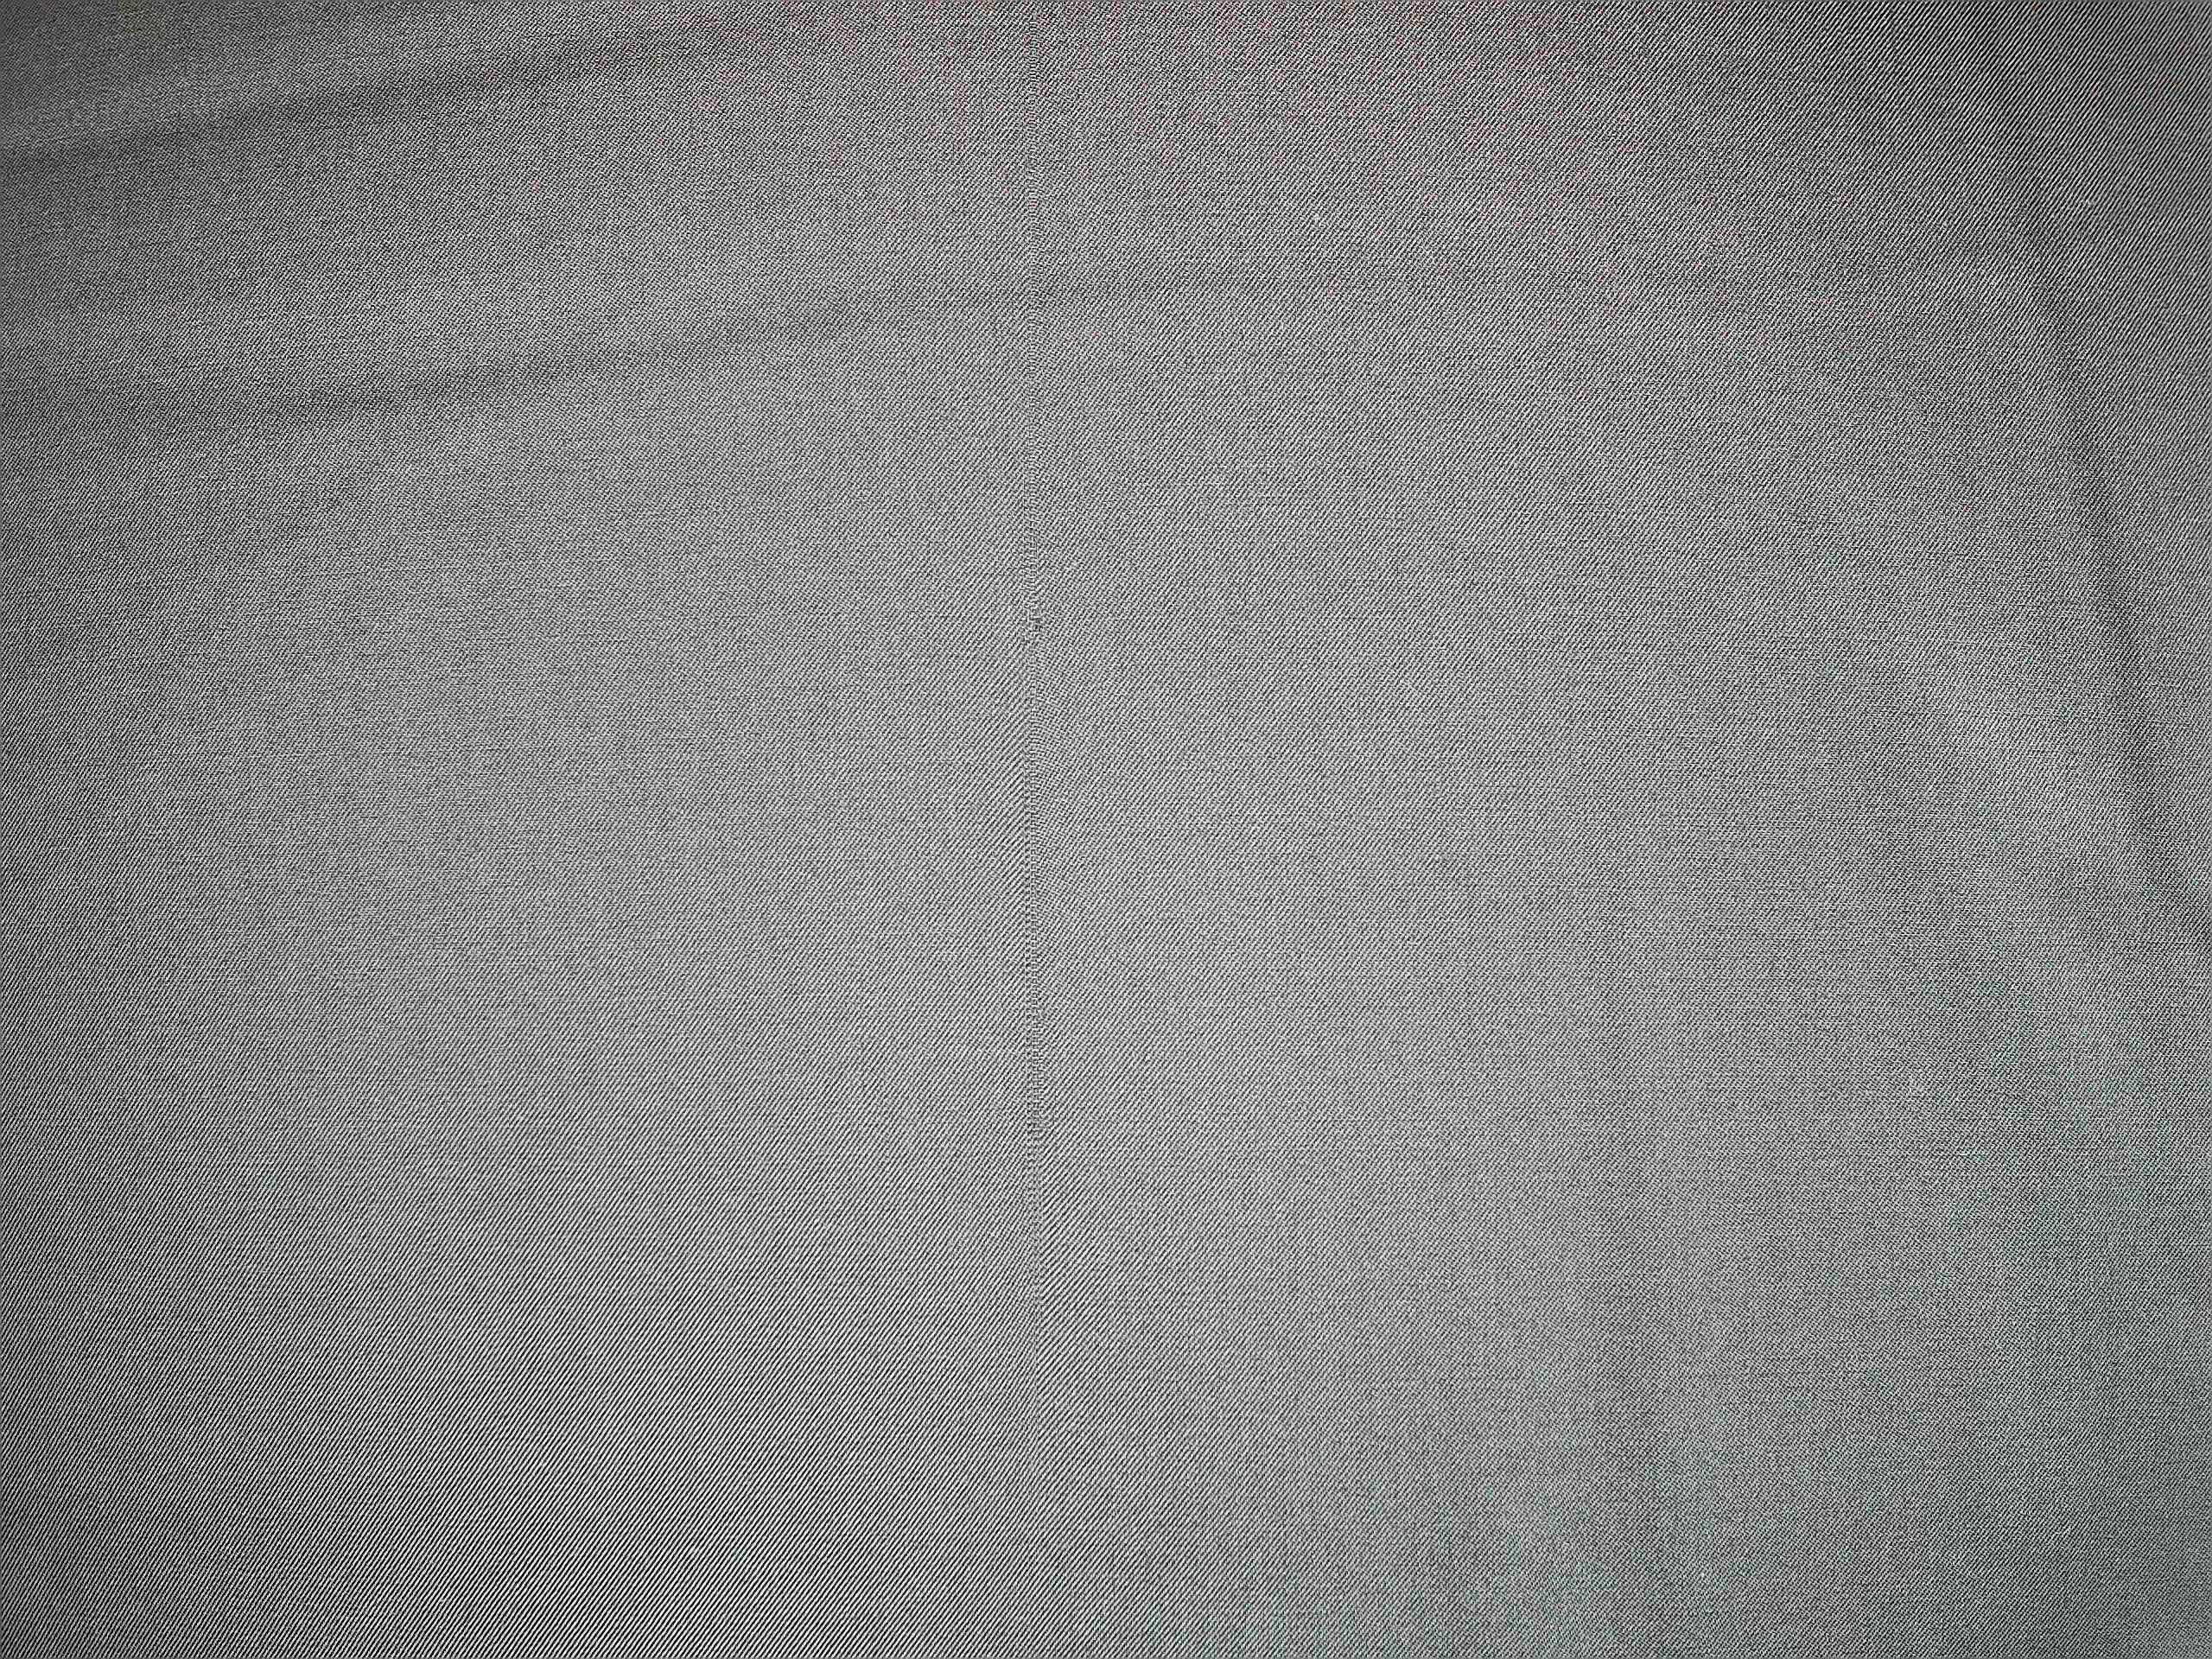hanging-warp: (996, 17, 1068, 1410)
